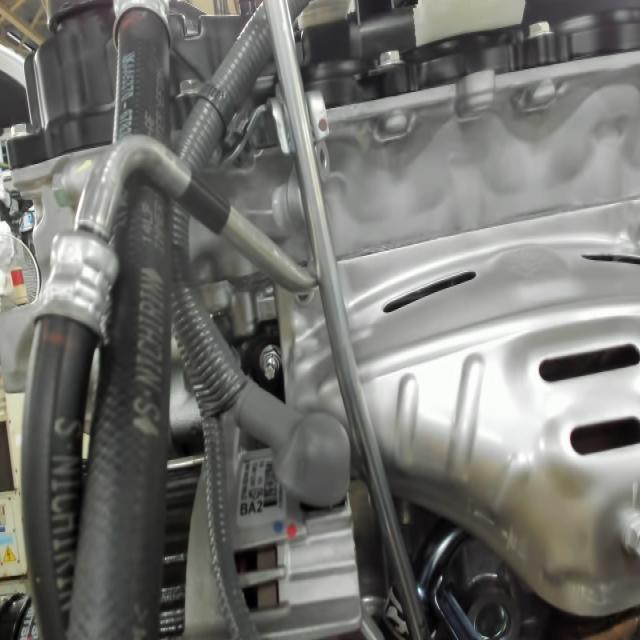Alternator-BA2: (234, 486, 272, 521)
Hose Discharge-HT: (164, 165, 235, 245)
